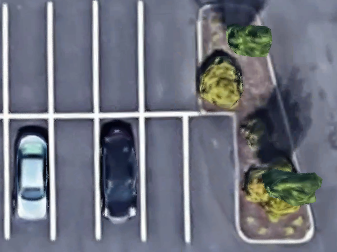Occupied: (7, 117, 52, 240), (98, 115, 142, 240)
Vacant: (139, 4, 199, 113), (188, 113, 235, 241), (143, 114, 187, 242), (52, 116, 97, 240), (4, 3, 52, 117), (50, 4, 97, 115), (95, 4, 142, 115)
